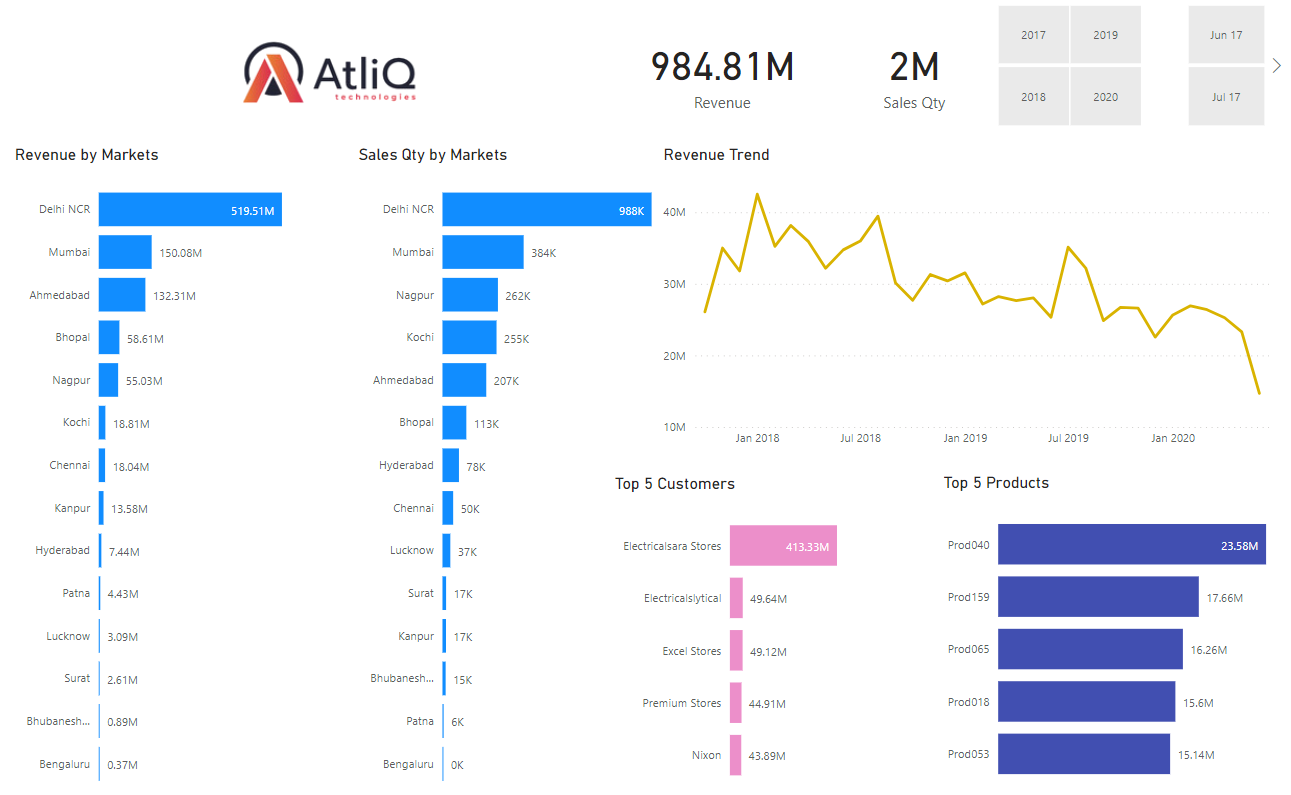

Layout of this report page (visuals, bound fields, positions):
{"tool":"powerbi","page":{"name":"Page 1","canvas":[1350,850],"ordinal":0},"visuals":[{"type":"card","fields":{"Values":["BaseMeasures.Revenue"]},"box":[635,0,237.4,154.5],"z":0},{"type":"card","fields":{"Values":["BaseMeasures.Sales_Qty"]},"box":[841.6,0,229,154.5],"z":1000},{"type":"barChart","title":"Revenue by Markets","fields":{"Y":["BaseMeasures.Revenue"],"Category":["sales markets.markets_name"]},"box":[0,154.3,322.7,695.3],"z":2000},{"type":"barChart","title":"Sales Qty by Markets","fields":{"Y":["BaseMeasures.Sales_Qty"],"Category":["sales markets.markets_name"]},"box":[363.2,154.3,322.7,695.3],"z":3000},{"type":"slicer","fields":{"Values":["sales date.year"]},"box":[1018.6,0,200.9,140.5],"z":4000},{"type":"slicer","fields":{"Values":["sales date.cy_date"]},"box":[1219.5,0,130.7,140.5],"z":5000},{"type":"barChart","title":"Top 5 Customers","fields":{"Y":["BaseMeasures.Revenue"],"Category":["sales customers.custmer_name"]},"box":[635,503,296.4,347],"z":6000},{"type":"barChart","title":"Top 5 Products","fields":{"Y":["BaseMeasures.Revenue"],"Category":["sales products.product_code"]},"box":[982.1,501.6,368.1,347],"z":7000},{"type":"lineChart","title":"Revenue Trend","fields":{"Y":["BaseMeasures.Revenue"],"Category":["sales date.cy_date"]},"box":[685.6,154.5,664.5,328.8],"z":8000},{"type":"image","box":[0,0,674.4,154.5],"z":8001}]}

Visuals, with their boxes in screenshot pixels (x1, y1, x2, y2), scaled from the page's 1350x850 canvas onto the 1291x795 screenshot:
card - BaseMeasures.Revenue: box=[607, 0, 834, 145]
card - BaseMeasures.Sales_Qty: box=[805, 0, 1024, 145]
"Revenue by Markets" barChart: box=[0, 144, 309, 794]
"Sales Qty by Markets" barChart: box=[347, 144, 656, 794]
slicer - sales date.year: box=[974, 0, 1166, 131]
slicer - sales date.cy_date: box=[1166, 0, 1290, 131]
"Top 5 Customers" barChart: box=[607, 470, 891, 794]
"Top 5 Products" barChart: box=[939, 469, 1290, 794]
"Revenue Trend" lineChart: box=[656, 145, 1290, 452]
image: box=[0, 0, 645, 145]
